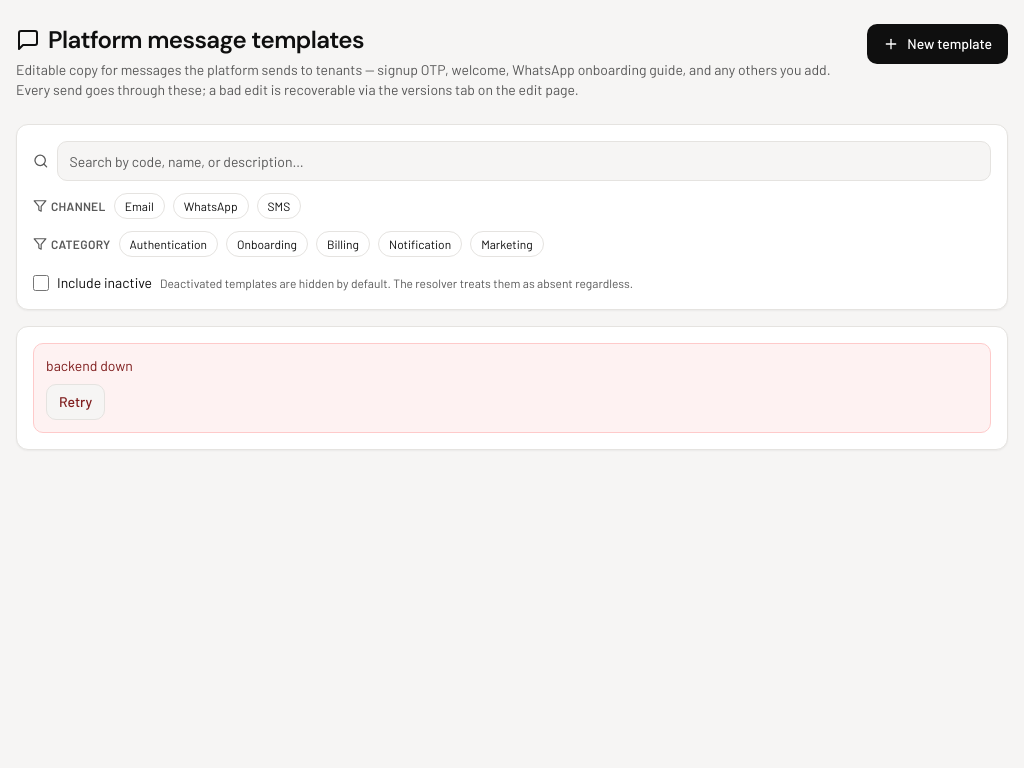
it: loading and error states › surfaces a load error with a Retry button that re-fetches
Expected: the message shows "backend down", x1=46 y1=357 x2=133 y2=374
Click the button "Retry" at (76, 402), box x1=46 y1=384 x2=105 y2=420
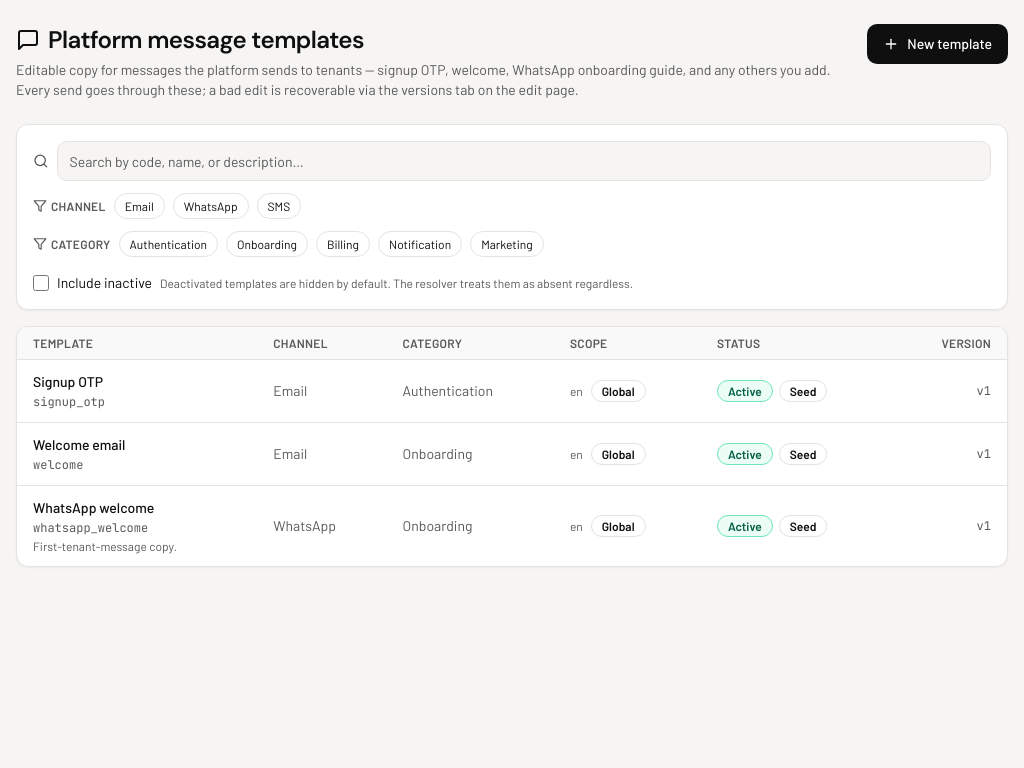
Result: the text "Signup OTP" is shown at x1=33 y1=373 x2=103 y2=390
